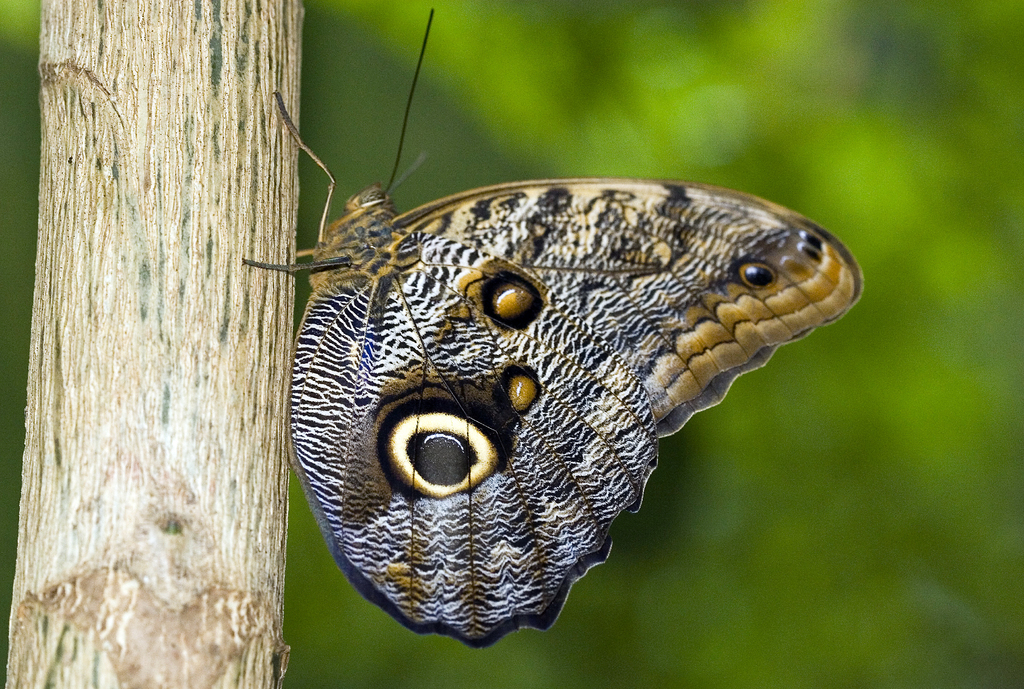Butterfly: (212, 23, 886, 655)
